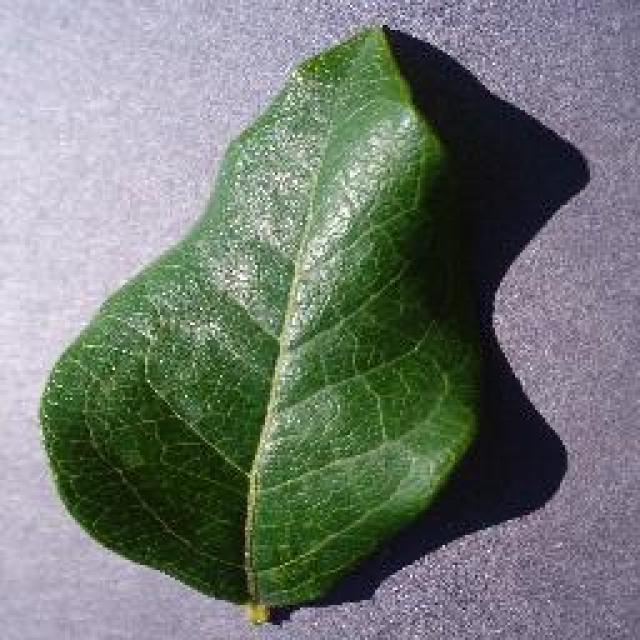Blu_healthy: (125, 172, 423, 558)
